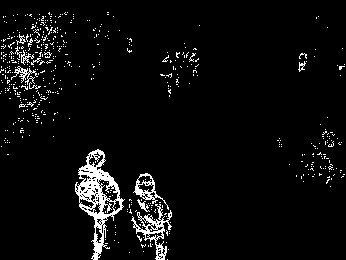person: (75, 145, 123, 260), (130, 169, 173, 260)
